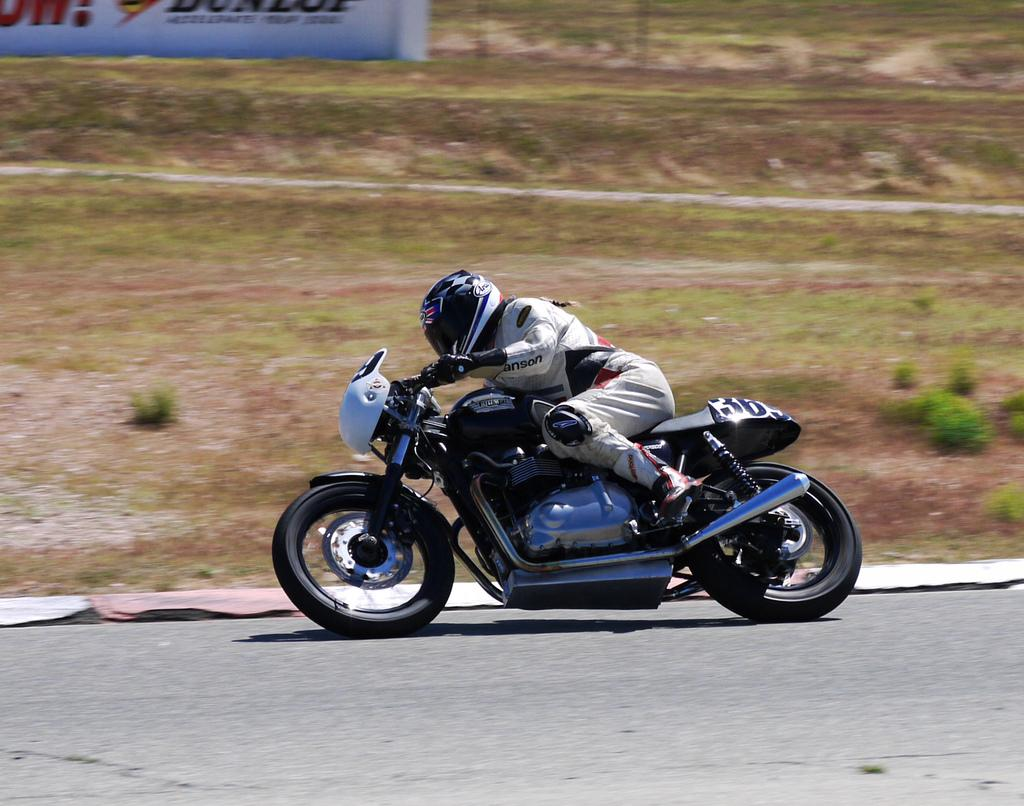helmet: (419, 269, 506, 373)
